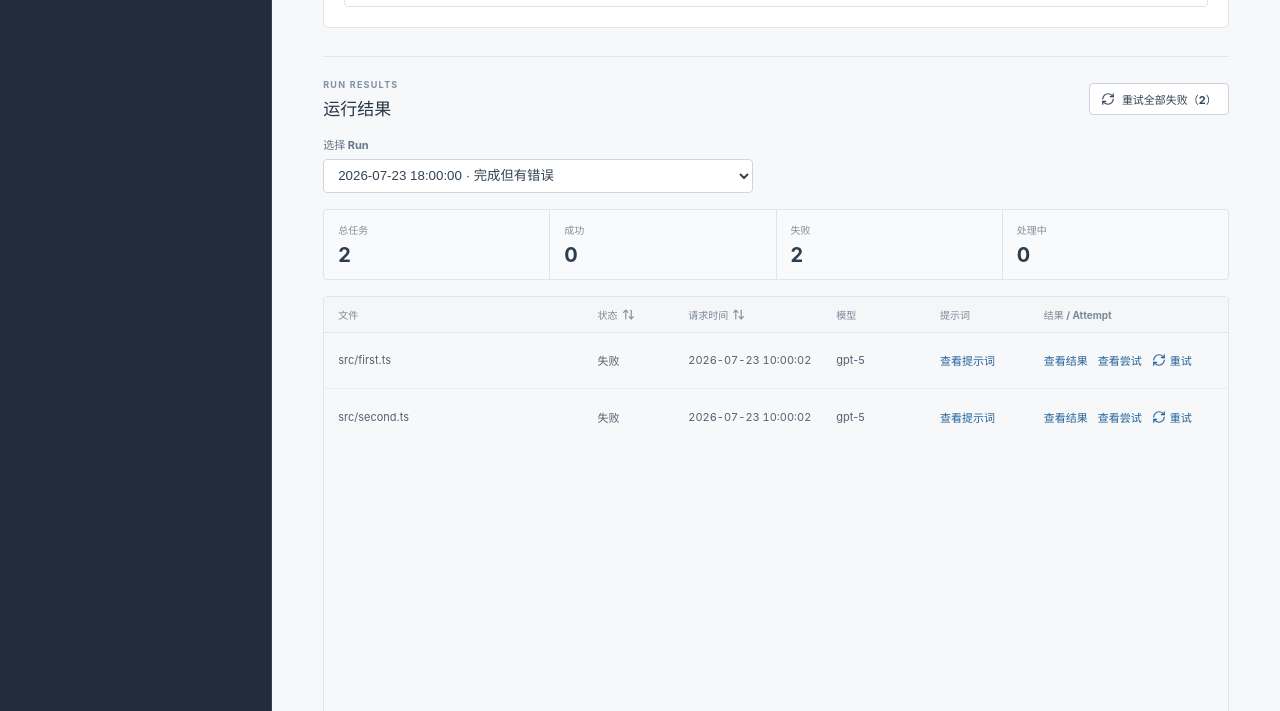
Test: App retry flow › clears pending individual retries when the active Run is cancelled
(page scrolled)
Click the button with aria-label "重试 src/first.ts". click: (1172,360)
box: [1152,352,1192,368]
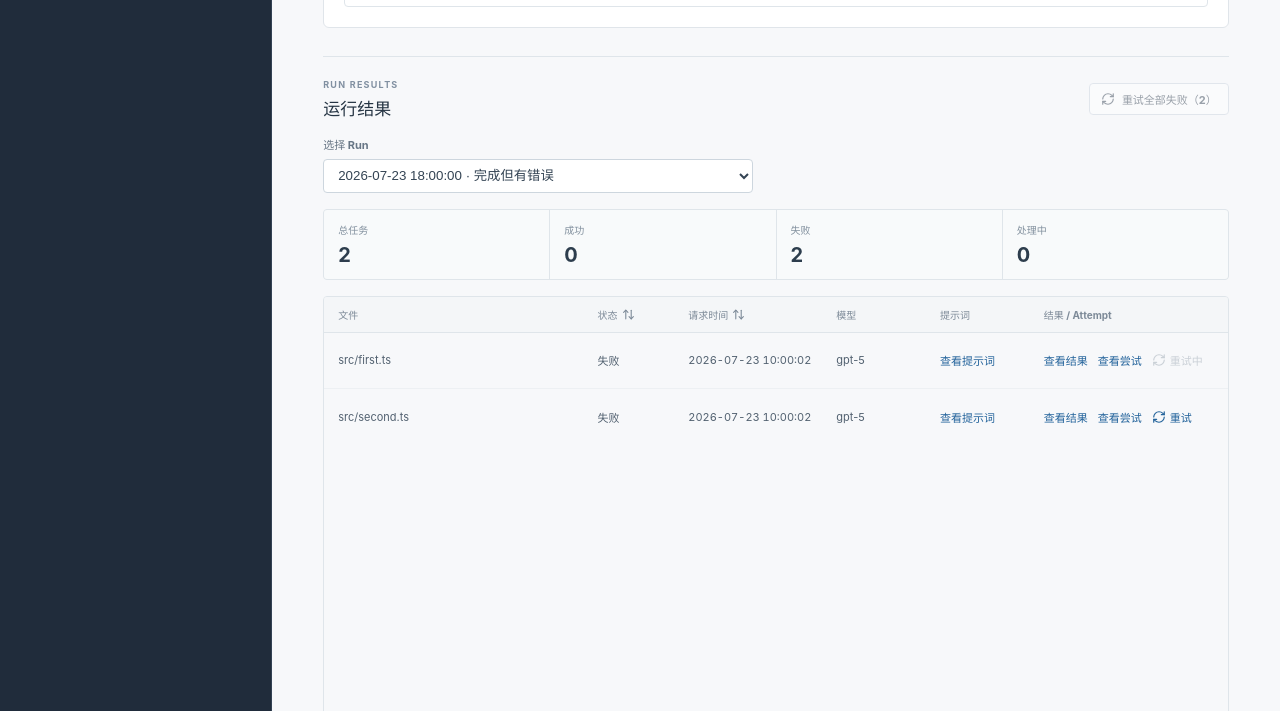
Click the button with aria-label "重试 src/second.ts". click: (1172,417)
box: [1152,409,1192,425]
(page scrolled)
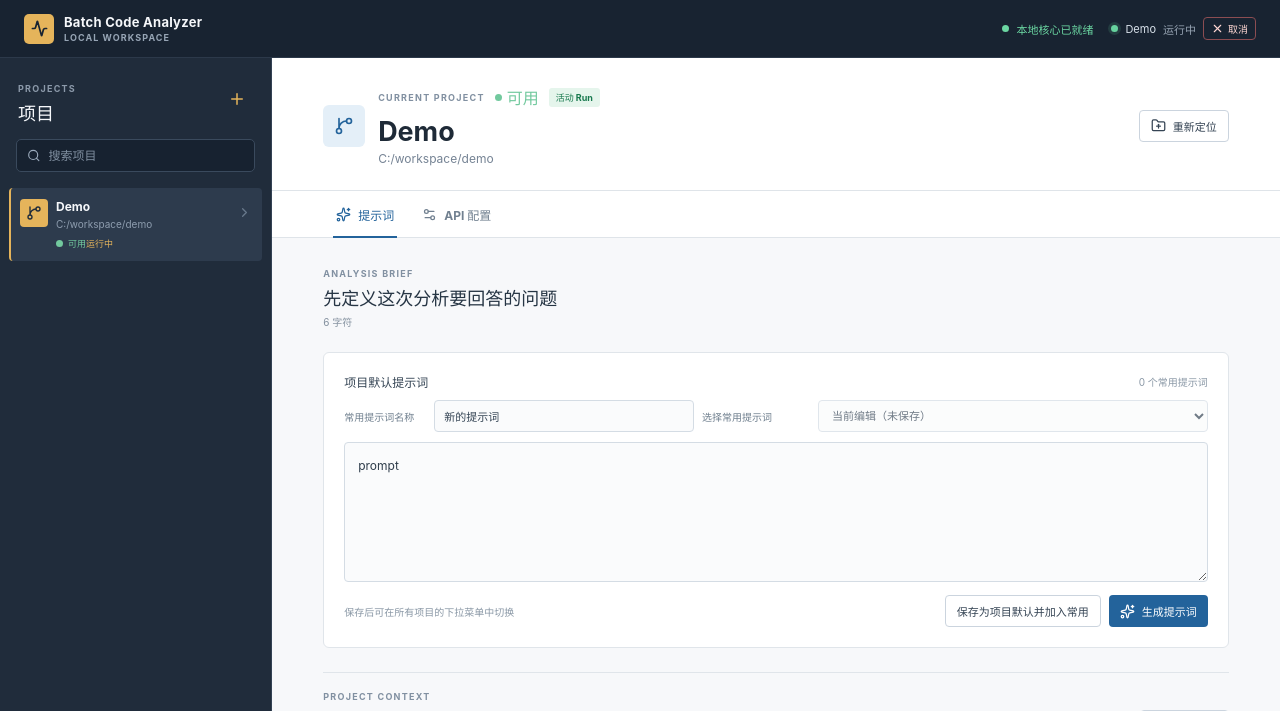
Click the button with aria-label "取消 Run". click: (1230,28)
box: [1203,17,1256,40]
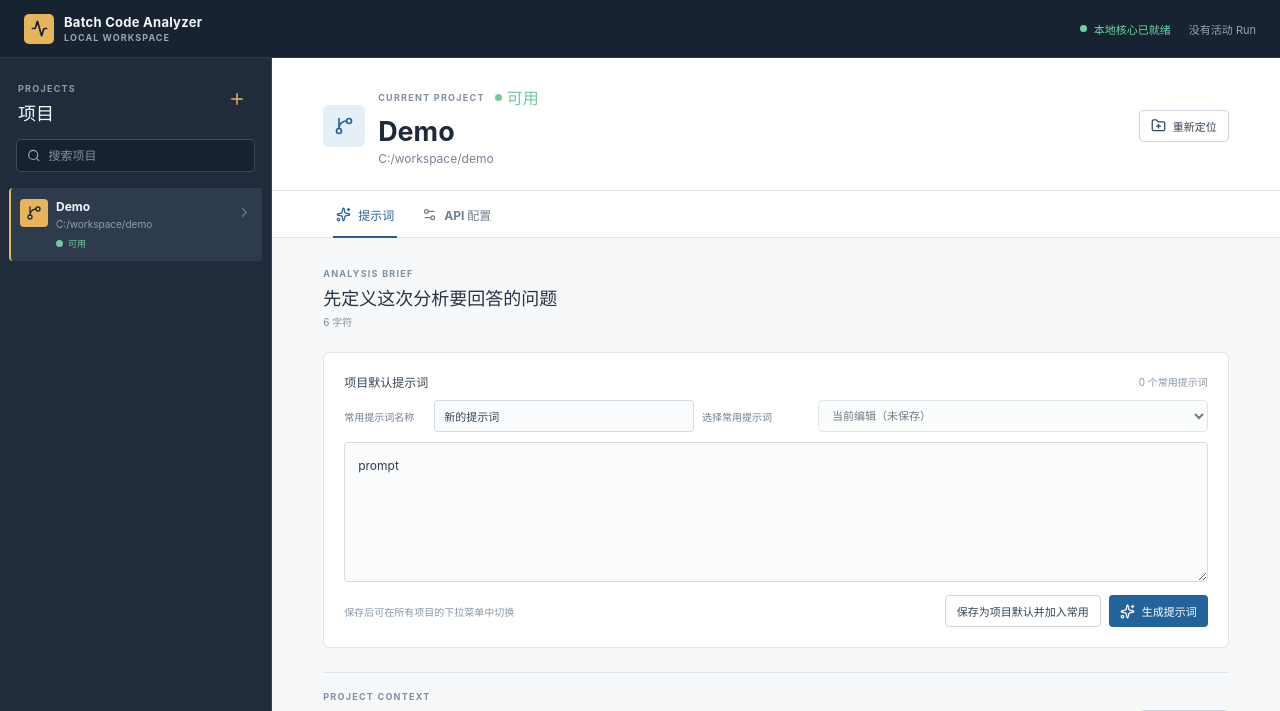
Now the text "没有活动 Run" is shown, box [1189,20,1256,36]
